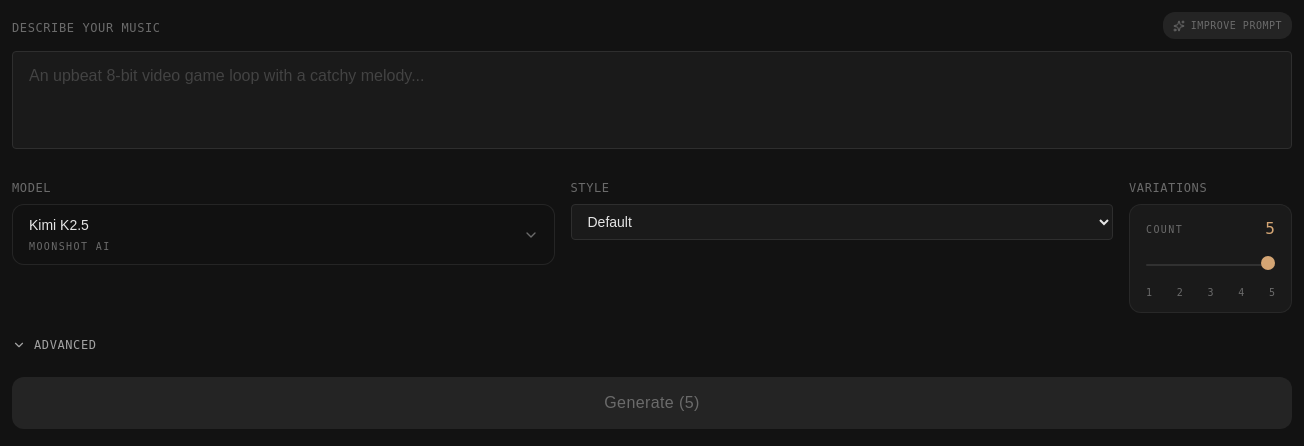
Scenario: InputForm UI › improves prompt in-place through API helper
Type "basic prompt" into the text box with placeholder "An upbeat 8-bit video game loop with a catchy melody..." at coordinates (652, 100), box [12, 51, 1292, 149]
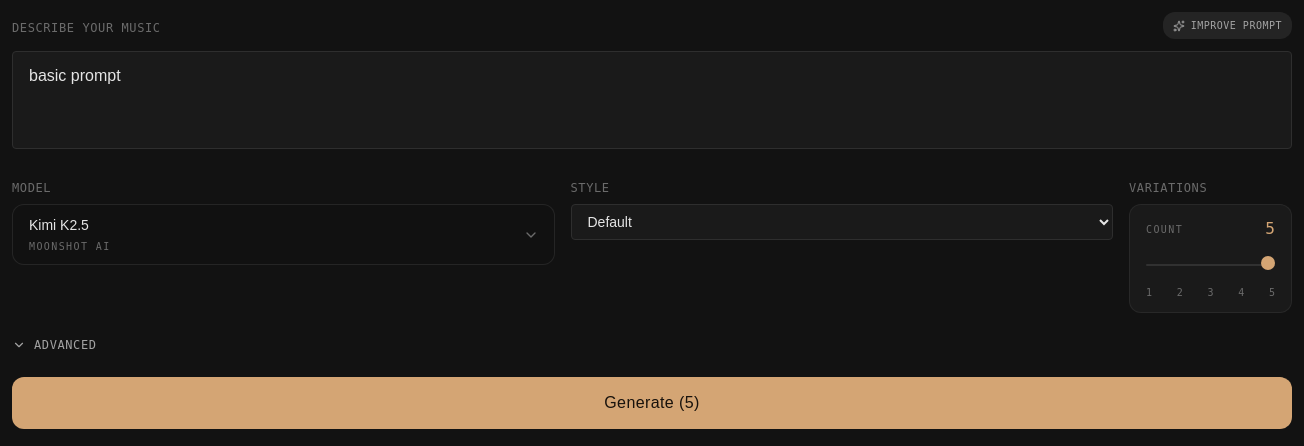
Click the button "Improve prompt" at coordinates (1227, 26), box [1163, 12, 1292, 39]
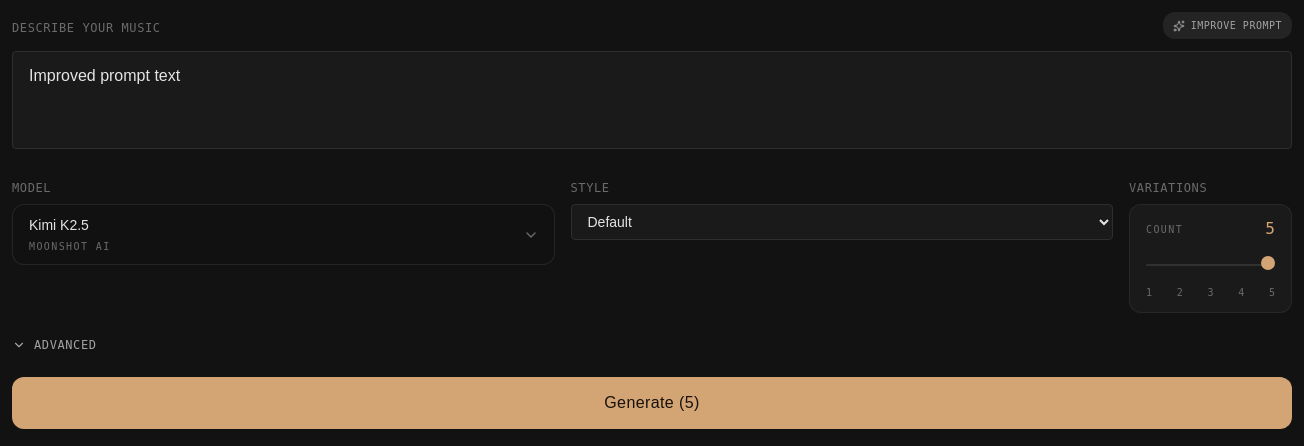
Expected: the text box with placeholder "An upbeat 8-bit video game loop with a catchy melody..." holds "Improved prompt text", [12, 51, 1292, 149]
